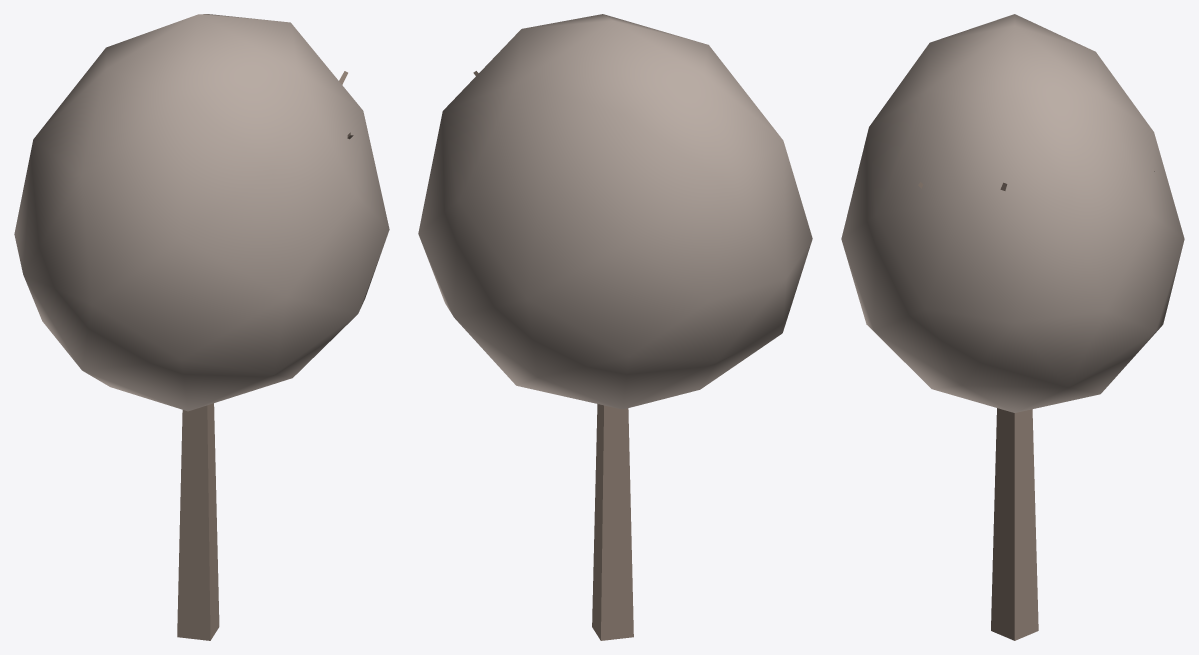
Rendered from tree-broadleaf-d-bare-far.glb.
The picture shows the model from 3 angles, left to right: view 1: azimuth 30°, elevation 25°; view 2: azimuth 150°, elevation 25°; view 3: azimuth 270°, elevation 25°; orthographic projection. The views are drawn at different scales.
Parts seen in each view (by area): view 1: tree-broadleaf-d-bare-far; view 2: tree-broadleaf-d-bare-far; view 3: tree-broadleaf-d-bare-far.
Part boxes in pixels (x1=…): tree-broadleaf-d-bare-far: x1=14, y1=14, x2=389, y2=640; tree-broadleaf-d-bare-far: x1=418, y1=14, x2=812, y2=640; tree-broadleaf-d-bare-far: x1=841, y1=14, x2=1184, y2=640.
Size of the model in its own units: 0.5772 by 0.9726 by 0.5003.
